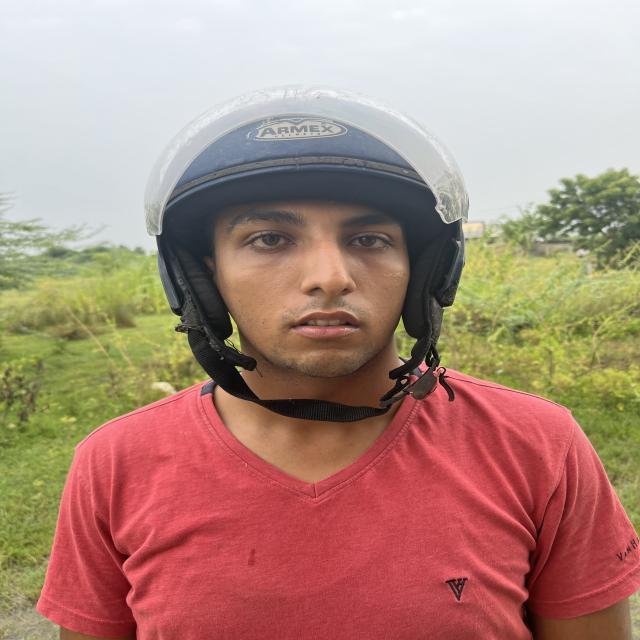Helmet: (145, 86, 468, 422)
